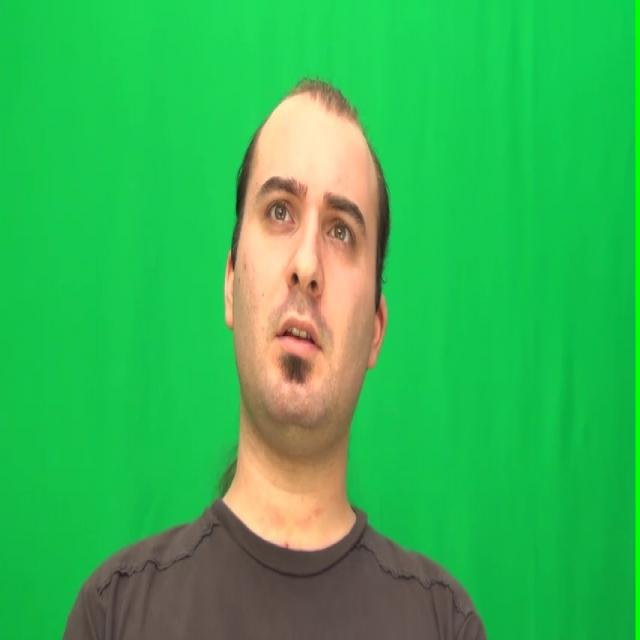Engaged: (235, 96, 370, 421)
